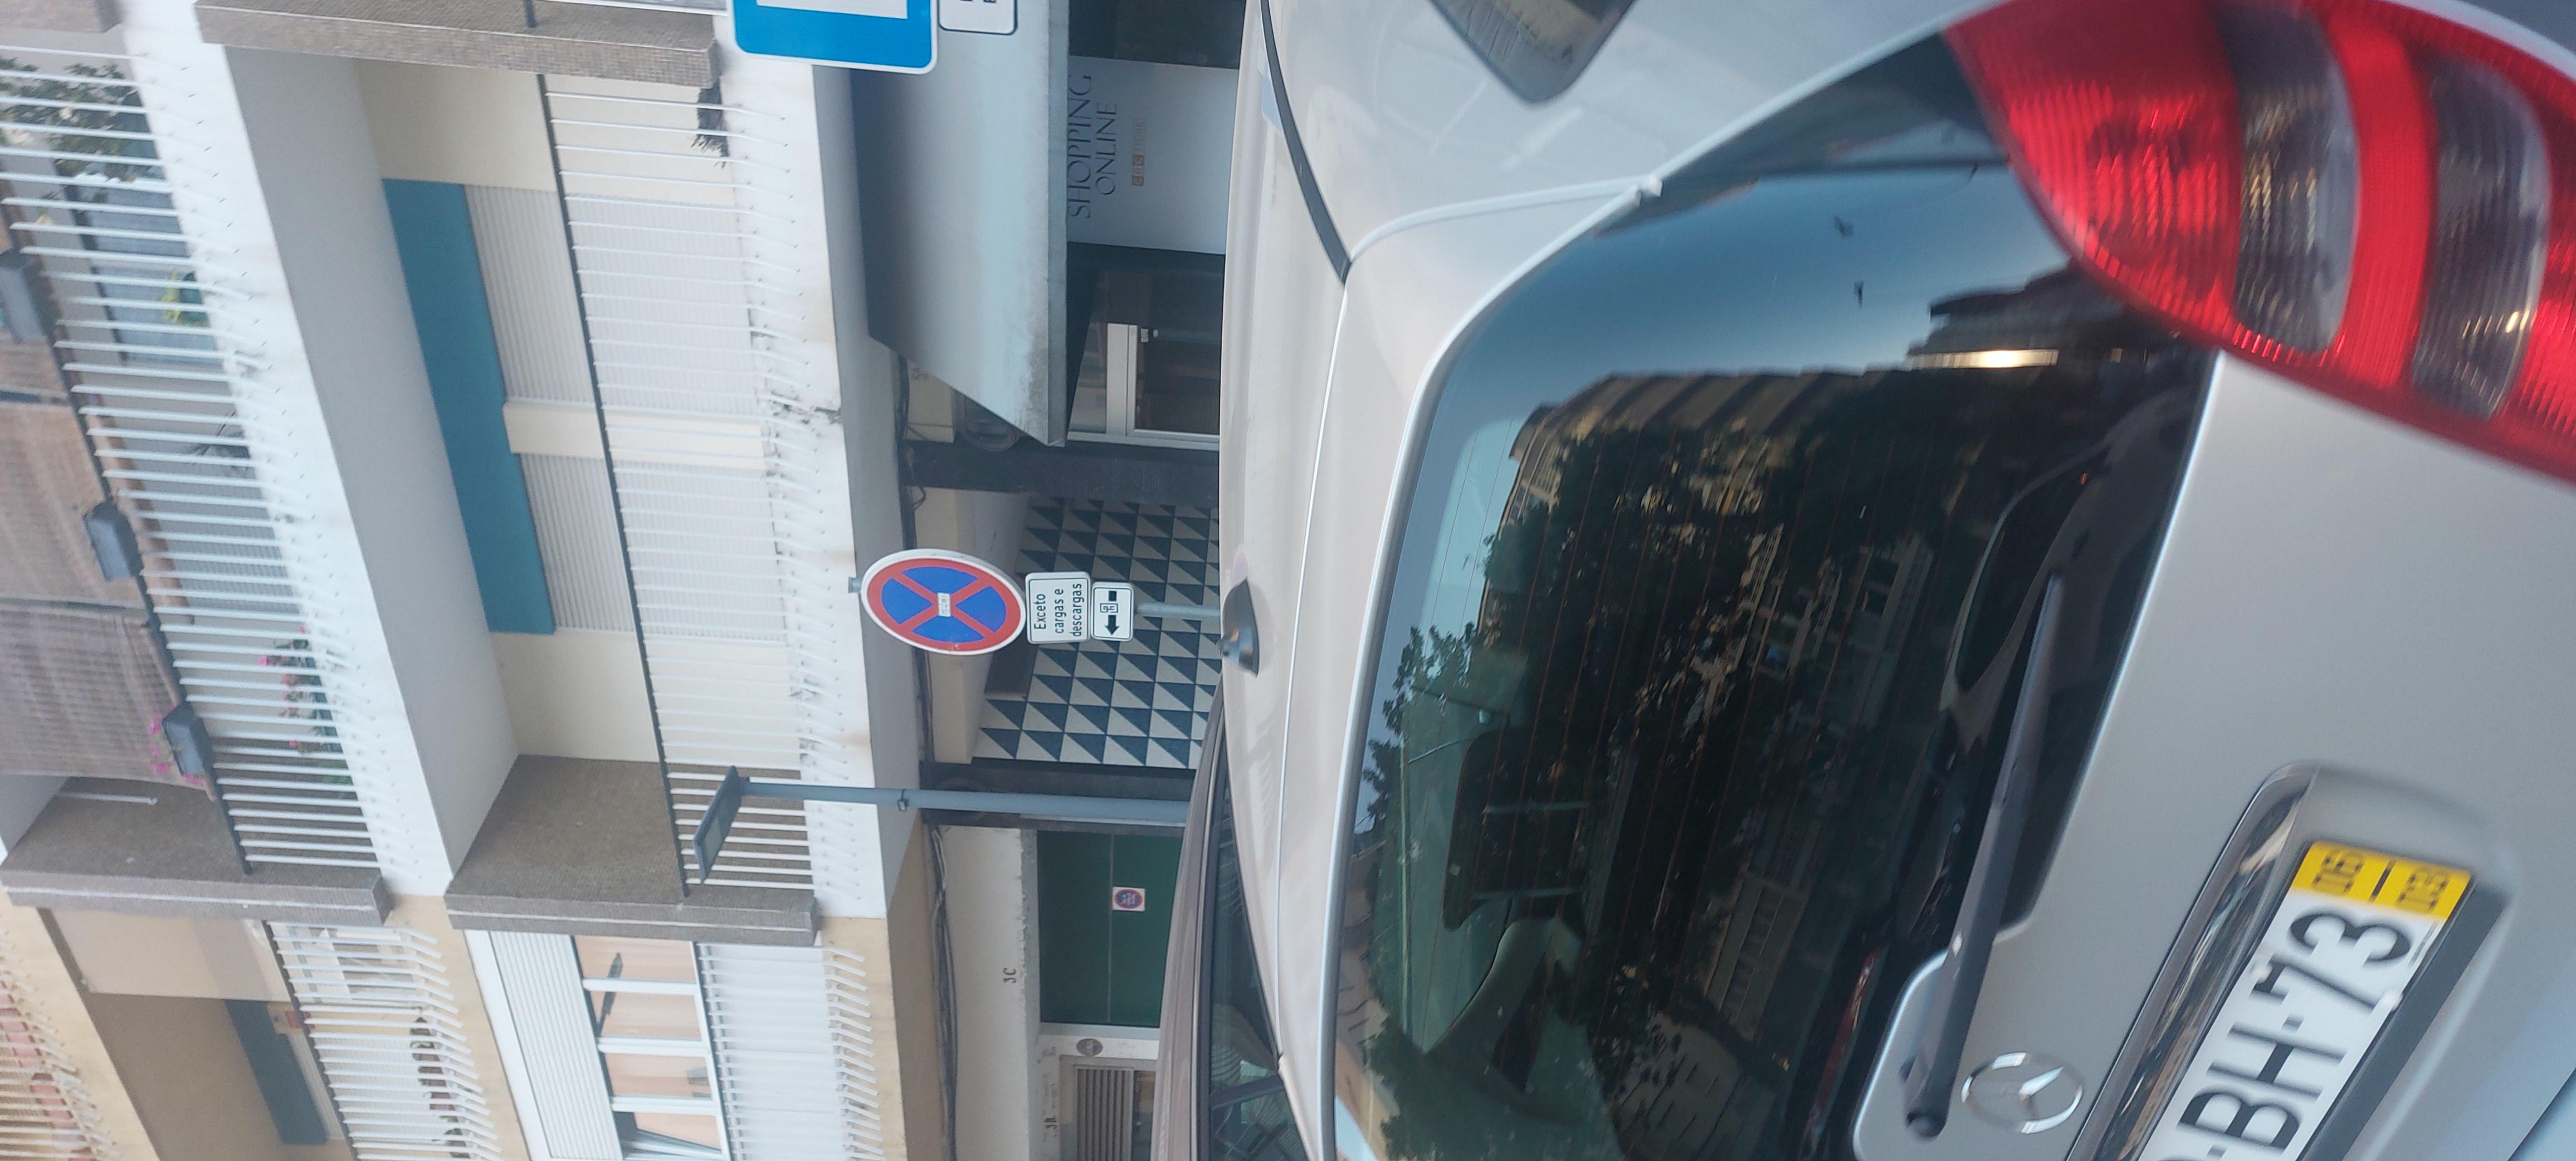paragem e estacionamento proibido: (1114, 386, 1373, 468)
